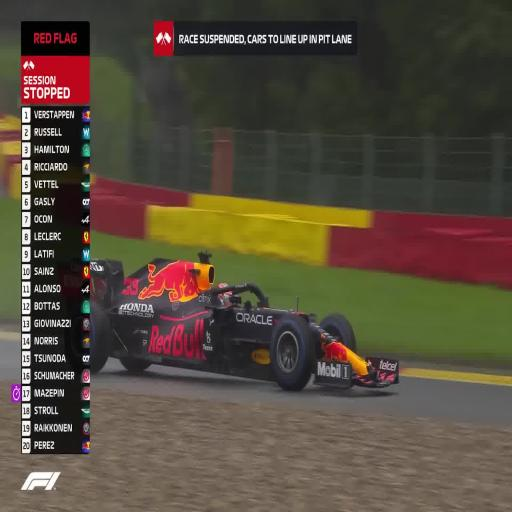f1_car: (89, 253, 398, 389)
